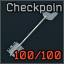Military checkpoint key: (0, 0, 64, 64)
